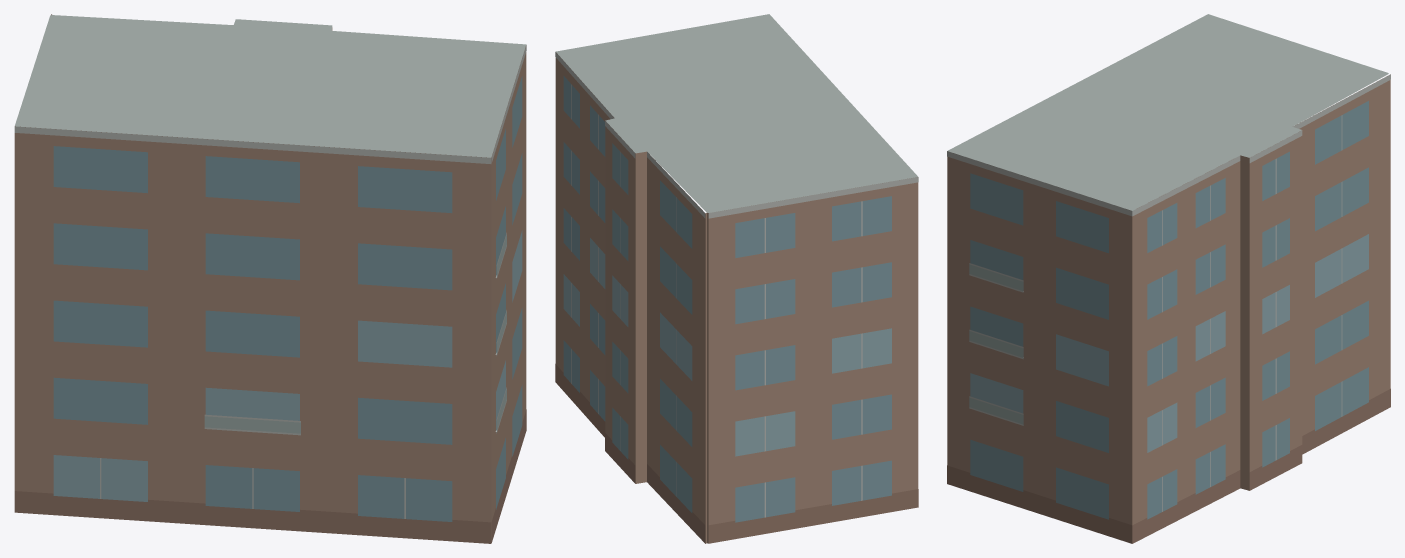
The model's file is survey-upis-32918990.glb.
3 renders of one model, left to right at view 1: azimuth 30°, elevation 25°; view 2: azimuth 150°, elevation 25°; view 3: azimuth 270°, elevation 25°, orthographic. The views are drawn at different scales.
Parts seen in each view (by area): view 1: survey-upis-32918990.tmp; view 2: survey-upis-32918990.tmp; view 3: survey-upis-32918990.tmp.
Part boxes in pixels (bbox=[...]): survey-upis-32918990.tmp: bbox=[14, 14, 526, 543]; survey-upis-32918990.tmp: bbox=[555, 14, 918, 543]; survey-upis-32918990.tmp: bbox=[947, 14, 1390, 543].
Size of the model in its own units: 18.52 by 14.6 by 17.64.
